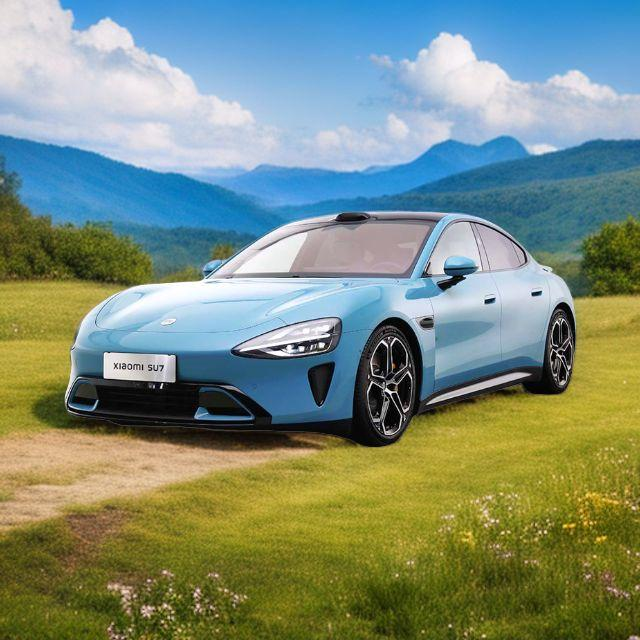su7: (57, 201, 586, 458)
